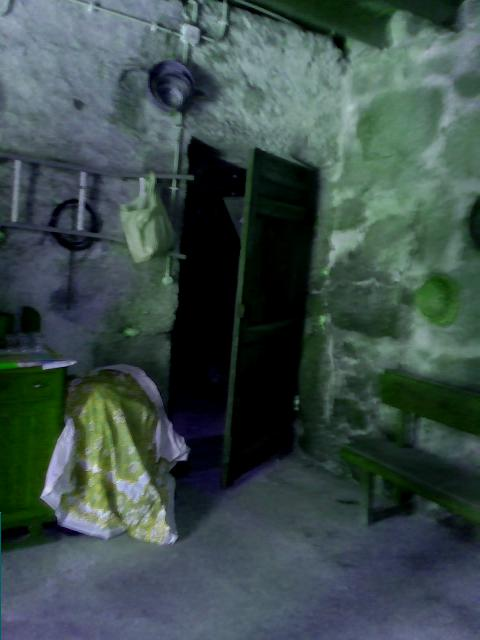semi_door: (166, 133, 322, 491)
